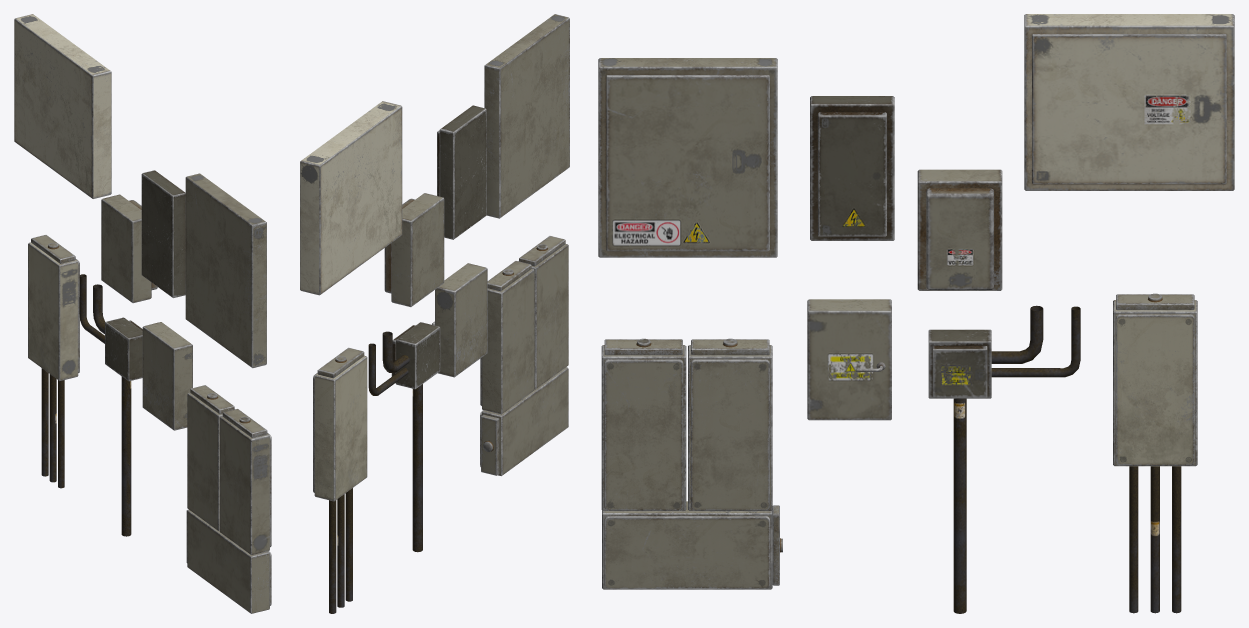
Rendered from electrical_boxes.glb.
3 views of the same model, side by side, from view 1: azimuth 30°, elevation 25°; view 2: azimuth 150°, elevation 25°; view 3: azimuth 270°, elevation 25° (orthographic). The views are drawn at different scales.
Visible parts, largest first — view 1: modular-box-01, modular-box-04, modular-box-group-04.000, modular-box-group-01.000, modular-box-03, modular-box-group-03.000, modular-box-05, modular-box-02, modular-box-group-02.000, modular-box-06, modular-tube-a01, modular-tube-b02 (+6 smaller); view 2: modular-box-01, modular-box-04, modular-box-group-04.000, modular-box-group-02.000, modular-box-03, modular-box-02, modular-box-05, modular-box-group-03.000, modular-box-group-01.000, modular-box-06, modular-tube-a01, modular-box-group-03.001 (+7 smaller); view 3: modular-box-01, modular-box-04, modular-box-03, modular-box-group-03.003, modular-box-group-04.003, modular-box-group-01.003, modular-box-group-02.003, modular-box-02, modular-box-05, modular-box-06, modular-tube-a01, modular-box-group-01.000 (+10 smaller).
Boxes of the visible parts, <box> form: modular-box-01: <box>14,14,111,198</box>; modular-box-04: <box>185,173,266,368</box>; modular-box-group-04.000: <box>28,242,78,380</box>; modular-box-group-01.000: <box>220,416,269,555</box>; modular-box-03: <box>141,170,185,298</box>; modular-box-group-03.000: <box>187,510,269,613</box>; modular-box-05: <box>142,322,192,430</box>; modular-box-02: <box>101,194,157,303</box>; modular-box-group-02.000: <box>187,392,222,531</box>; modular-box-06: <box>105,317,142,381</box>; modular-tube-a01: <box>121,376,131,536</box>; modular-tube-b02: <box>49,374,56,482</box>; modular-box-01: <box>300,101,402,295</box>; modular-box-04: <box>484,14,569,218</box>; modular-box-group-04.000: <box>314,355,367,501</box>; modular-box-group-02.000: <box>482,269,534,414</box>; modular-box-03: <box>437,105,486,239</box>; modular-box-02: <box>384,193,444,307</box>; modular-box-05: <box>435,263,487,377</box>; modular-box-group-03.000: <box>482,367,568,476</box>; modular-box-group-01.000: <box>531,244,568,389</box>; modular-box-06: <box>391,322,440,389</box>; modular-tube-a01: <box>412,384,422,552</box>; modular-box-group-03.001: <box>481,414,499,475</box>; modular-box-01: <box>1024,14,1234,190</box>; modular-box-04: <box>598,58,777,257</box>; modular-box-03: <box>810,96,894,240</box>; modular-box-group-03.003: <box>604,516,770,588</box>; modular-box-group-04.003: <box>1115,314,1194,465</box>; modular-box-group-01.003: <box>604,359,683,510</box>; modular-box-group-02.003: <box>691,359,769,510</box>; modular-box-02: <box>917,169,1002,290</box>; modular-box-05: <box>807,299,891,420</box>; modular-box-06: <box>928,329,991,398</box>; modular-tube-a01: <box>953,398,966,613</box>; modular-box-group-01.000: <box>601,345,686,511</box>.
Bounding box in the file's own units: 0.15 × 2.16 × 2.1.
1 material, 1 textured.
